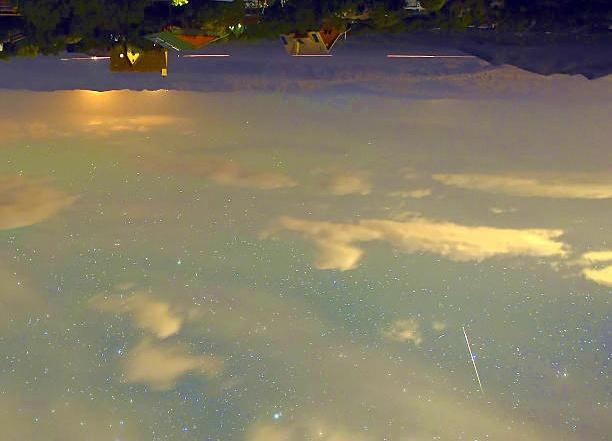meteorite: (461, 323, 486, 394)
